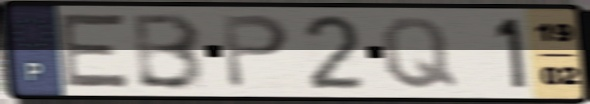1: (492, 16, 530, 91)
2: (300, 12, 367, 92)
B: (131, 10, 208, 92)
E: (59, 11, 133, 90)
P: (219, 13, 293, 92)
Q: (378, 14, 461, 92)
